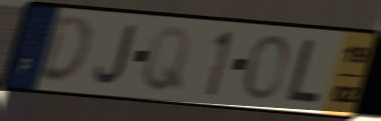1: (204, 28, 237, 99)
D: (35, 14, 93, 88)
J: (92, 23, 138, 87)
L: (283, 37, 323, 106)
O: (242, 32, 290, 102)
Q: (139, 23, 193, 95)
